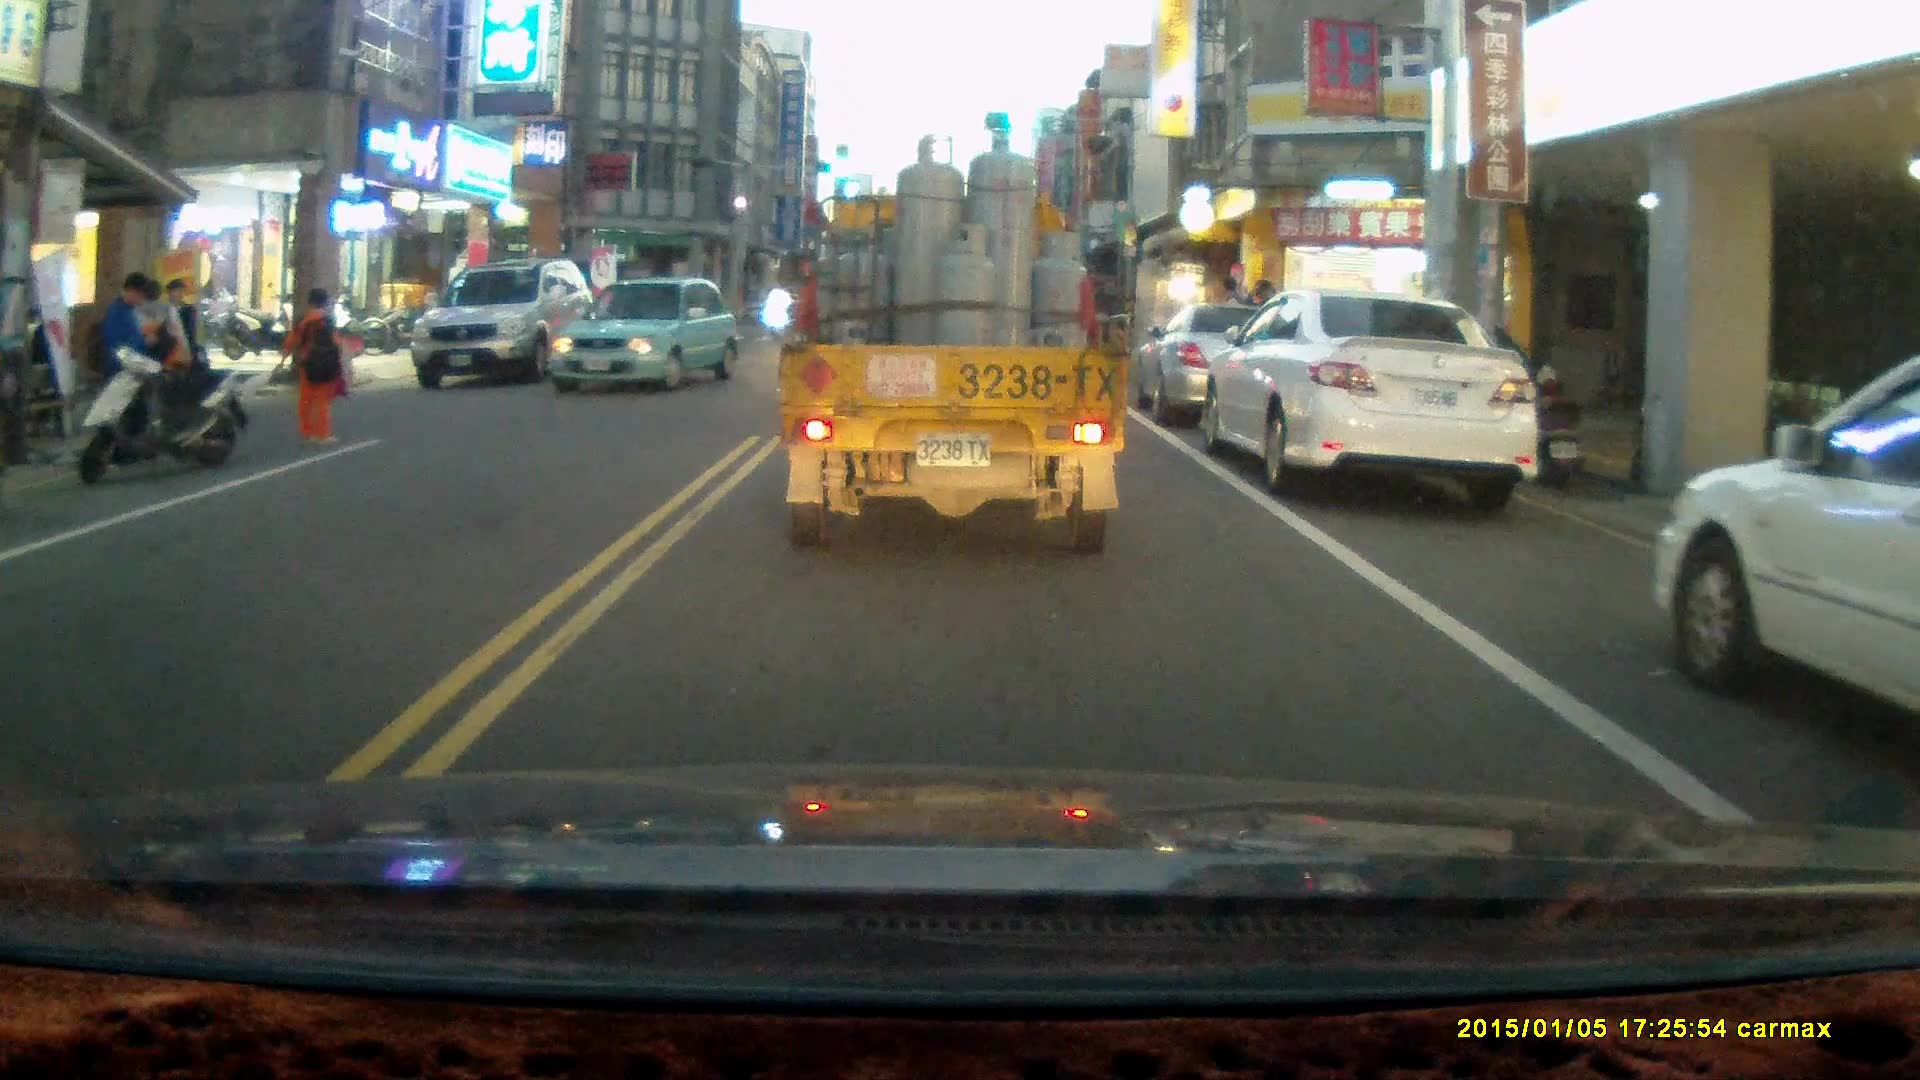pedestrian: (83, 272, 164, 459), (276, 284, 348, 443), (152, 277, 200, 413)
vehicle: (777, 125, 1136, 558), (1669, 353, 1920, 724), (1206, 284, 1543, 508), (1139, 299, 1378, 433), (416, 259, 600, 394), (550, 278, 740, 398)
